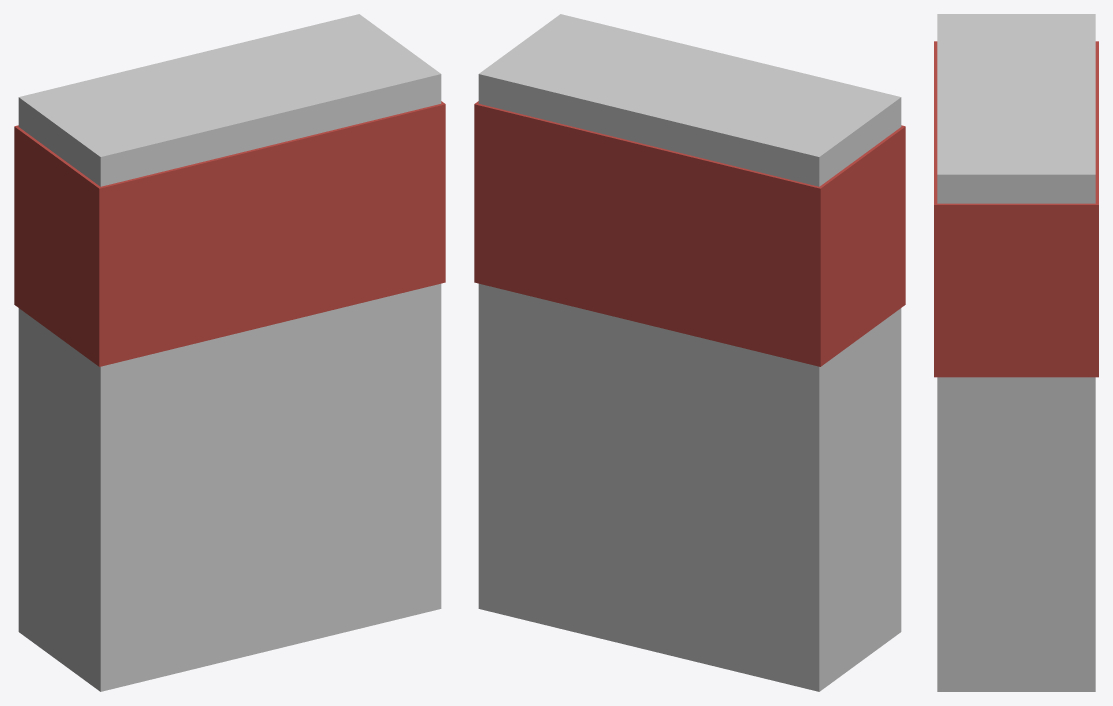
The model's file is Esya_Sigara.glb.
3 views of the same model, side by side, from view 1: azimuth 30°, elevation 25°; view 2: azimuth 150°, elevation 25°; view 3: azimuth 270°, elevation 25° (orthographic). The views are drawn at different scales.
Visible parts, largest first — view 1: Esya_Sigara; view 2: Esya_Sigara; view 3: Esya_Sigara.
Part boxes in pixels (<box>): Esya_Sigara: <box>14,14,445,691</box>; Esya_Sigara: <box>474,14,905,691</box>; Esya_Sigara: <box>934,14,1098,691</box>.
Size of the model in its own units: 0.061 by 0.09 by 0.026.
